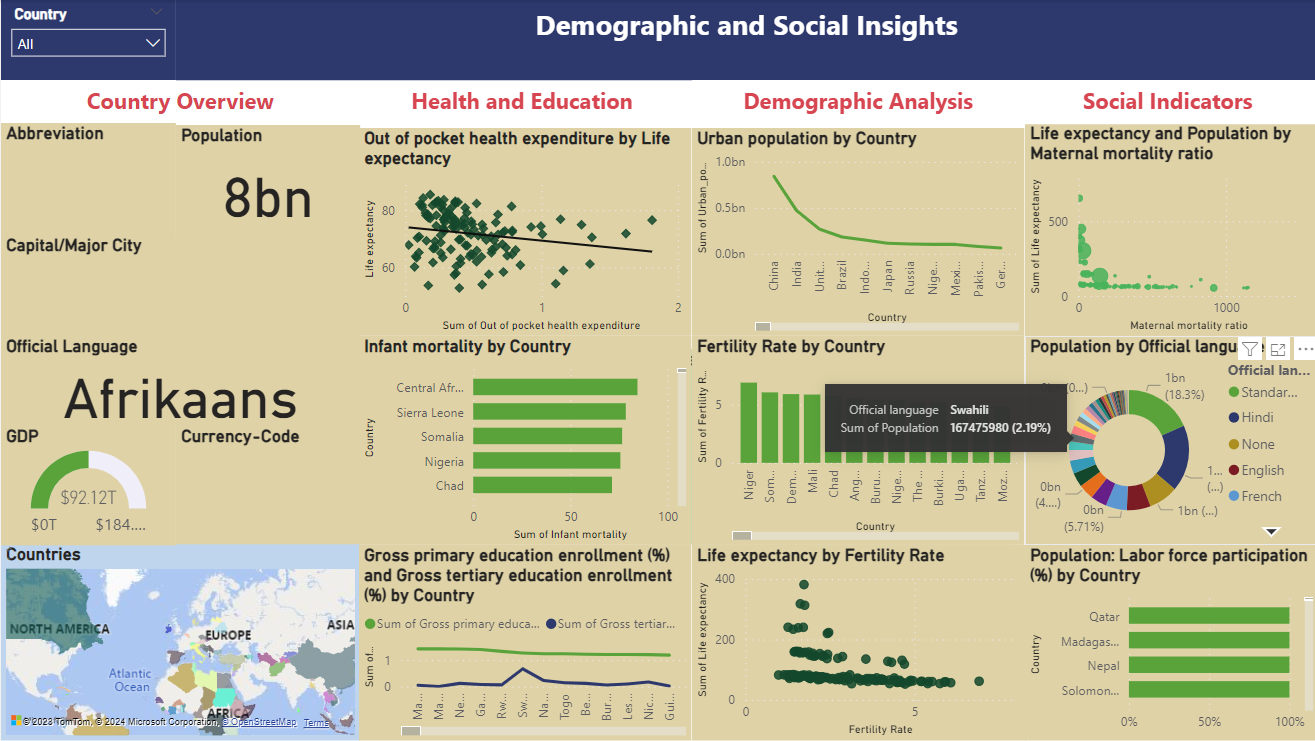

Layout of this report page (visuals, bound fields, positions):
{"tool":"powerbi","page":{"name":"Demographic and Social Insights Dashboards:","canvas":[1280,720],"ordinal":0},"visuals":[{"type":"slicer","fields":{"Values":["world-data-2023.Country"]},"box":[0,0,170.2,78],"z":0},{"type":"shapeMap","title":"Density(P/Km2) by Country","fields":{"Category":["world-data-2023.Country"],"Value":["Sum(world-data-2023.Density(P/Km2))"]},"box":[633.1,339.6,348.5,189.8],"z":1000},{"type":"scatterChart","title":"Out of pocket health expenditure by Life expectancy","fields":{"X":["Sum(world-data-2023.Out of pocket health expenditure)"],"Y":["world-data-2023.Life expectancy"]},"box":[348.2,124.5,322.9,202.3],"z":2000},{"type":"clusteredBarChart","title":"Infant mortality by Country","fields":{"Category":["world-data-2023.Country"],"Y":["Sum(world-data-2023.Infant mortality)"]},"box":[348.2,326.8,322.9,203.3],"z":3000},{"type":"textbox","box":[0,78,348.5,41.7],"z":4000},{"type":"filledMap","title":"Countries","fields":{"Category":["world-data-2023.Country"],"Series":["world-data-2023.Country"]},"box":[0,528.9,348.7,191.2],"z":5000},{"type":"textbox","box":[348.2,77.8,322.9,41.8],"z":6000},{"type":"textbox","box":[170.2,0,1109.3,78],"z":7000},{"type":"lineChart","title":"Gross primary education enrollment (%) and Gross tertiary education enrollment (%) by Country","fields":{"Y":["Sum(world-data-2023.Gross primary education enrollment (%))","Sum(world-data-2023.Gross tertiary education enrollment (%))"],"Category":["world-data-2023.Country"]},"box":[348.2,530.1,322.9,189.7],"z":8000},{"type":"textbox","box":[671.1,77.8,322.9,41.8],"z":9000},{"type":"lineChart","title":"Urban population by Country","fields":{"Category":["world-data-2023.Country"],"Y":["Sum(world-data-2023.Urban_population)"]},"box":[671.1,124.5,322.9,202.3],"z":10000},{"type":"clusteredColumnChart","title":"Fertility Rate by Country","fields":{"Category":["world-data-2023.Country"],"Y":["Sum(world-data-2023.Fertility Rate)"]},"box":[671.1,326.8,322.9,203.3],"z":11000},{"type":"scatterChart","title":"Life expectancy by Fertility Rate","fields":{"X":["world-data-2023.Fertility Rate"],"Y":["Sum(world-data-2023.Life expectancy)"]},"box":[671.1,530.1,323.9,189.7],"z":12000},{"type":"scatterChart","title":"Life expectancy and Population by Maternal mortality ratio","fields":{"Y":["Sum(world-data-2023.Life expectancy)"],"X":["world-data-2023.Maternal mortality ratio"],"Size":["Sum(world-data-2023.Population)"]},"box":[995,119.6,285,207.2],"z":13000},{"type":"donutChart","title":"Population by Official language","fields":{"Category":["world-data-2023.Official language"],"Y":["Sum(world-data-2023.Population)"]},"box":[995.4,326.3,285.2,202.9],"z":14000},{"type":"textbox","box":[994,78.1,285.2,42.5],"z":15000},{"type":"hundredPercentStackedBarChart","title":"Population: Labor force participation (%) by Country","fields":{"Y":["Sum(world-data-2023.Population: Labor force participation (%))"],"Category":["world-data-2023.Country"]},"box":[995,530,285,190],"z":16000},{"type":"card","title":"Population","fields":{"Values":["Sum(world-data-2023.Population)"]},"box":[170,121.1,178.9,107.8],"z":17000},{"type":"card","title":"Abbreviation","fields":{"Values":["Min(world-data-2023.Abbreviation)"]},"box":[0,120,170,108.9],"z":18000},{"type":"card","title":"Capital/Major City","fields":{"Values":["Min(world-data-2023.Capital/Major City)"]},"box":[0,228.8,348.5,106.4],"z":19000},{"type":"gauge","title":"GDP","fields":{"Y":["Sum(world-data-2023.GDP)"]},"box":[0,414.1,170.2,116.2],"z":20000},{"type":"card","title":"Currency-Code","fields":{"Values":["Min(world-data-2023.Currency-Code)"]},"box":[170.2,414.1,178.2,115.3],"z":21000},{"type":"card","title":"Official Language","fields":{"Values":["Min(world-data-2023.Official language)"]},"box":[0,326.7,348.9,87.8],"z":22000}]}

Visuals, with their boxes in screenshot pixels (x1, y1, x2, y2), scaled from the page's 1280x720 canvas onto the 1315x741 screenshot:
slicer - world-data-2023.Country: locate(0, 0, 175, 80)
"Density(P/Km2) by Country" shapeMap: locate(650, 350, 1008, 545)
"Out of pocket health expenditure by Life expectancy" scatterChart: locate(358, 128, 689, 336)
"Infant mortality by Country" clusteredBarChart: locate(358, 336, 689, 546)
textbox: locate(0, 80, 358, 123)
"Countries" filledMap: locate(0, 544, 358, 740)
textbox: locate(358, 80, 689, 123)
textbox: locate(175, 0, 1314, 80)
"Gross primary education enrollment (%) and Gross tertiary education enrollment (%) by Country" lineChart: locate(358, 546, 689, 740)
textbox: locate(689, 80, 1021, 123)
"Urban population by Country" lineChart: locate(689, 128, 1021, 336)
"Fertility Rate by Country" clusteredColumnChart: locate(689, 336, 1021, 546)
"Life expectancy by Fertility Rate" scatterChart: locate(689, 546, 1022, 740)
"Life expectancy and Population by Maternal mortality ratio" scatterChart: locate(1022, 123, 1314, 336)
"Population by Official language" donutChart: locate(1023, 336, 1314, 545)
textbox: locate(1021, 80, 1314, 124)
"Population: Labor force participation (%) by Country" hundredPercentStackedBarChart: locate(1022, 545, 1314, 740)
"Population" card: locate(175, 125, 358, 236)
"Abbreviation" card: locate(0, 123, 175, 236)
"Capital/Major City" card: locate(0, 235, 358, 345)
"GDP" gauge: locate(0, 426, 175, 546)
"Currency-Code" card: locate(175, 426, 358, 545)
"Official Language" card: locate(0, 336, 358, 427)
